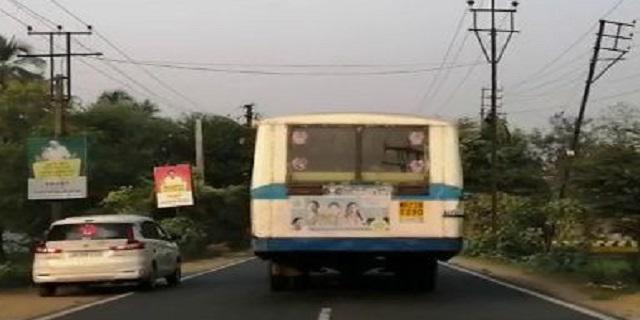Bus: (237, 106, 470, 295)
Car: (31, 213, 189, 294)
